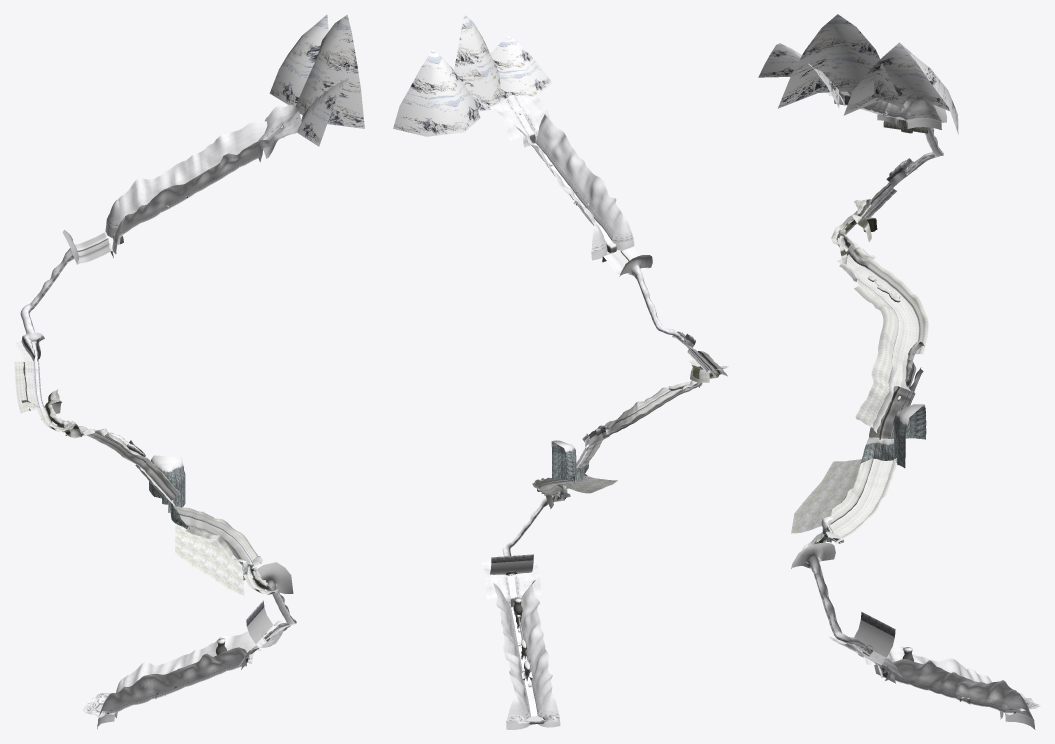
Rendered from Ice Cap 3.obj.
3 views of the same model, side by side, from view 1: azimuth 30°, elevation 25°; view 2: azimuth 150°, elevation 25°; view 3: azimuth 270°, elevation 25° (orthographic). The views are drawn at different scales.
Visible parts, largest first — view 1: object_00878628, object_008943B4, object_008BB1C4, object_008A3E48, object_00878350, object_00877720, object_008B067C, object_00939394, object_00878900, object_0091661C, object_008C9F7C, object_008D569C (+4 smaller); view 2: object_00878350, object_008A3E48, object_00878628, object_00878900, object_008BB1C4, object_008D569C, object_008B067C, object_009391C0, object_008C9F7C, object_0087B8EC, object_009201EC, object_009390F0 (+1 smaller); view 3: object_00878628, object_00878350, object_008B067C, object_009201EC, object_00877720, object_00939394, object_008C9F7C, object_0087B8EC, object_00878900, object_008DC57C, object_008BB1C4, object_00939360 (+11 smaller).
Part boxes in pixels (box(x1,y1,x2,y2)): object_00878628: box(295, 14, 364, 128); object_008943B4: box(118, 121, 267, 221); object_008BB1C4: box(110, 647, 249, 712); object_008A3E48: box(122, 139, 272, 234); object_00878350: box(269, 14, 328, 106); object_00877720: box(174, 524, 244, 596); object_008B067C: box(121, 631, 261, 688); object_00939394: box(170, 506, 261, 567); object_00878900: box(297, 78, 349, 146); object_0091661C: box(14, 361, 43, 413); object_008C9F7C: box(149, 455, 185, 512); object_008D569C: box(259, 104, 301, 158); object_00878350: box(393, 50, 480, 136); object_008A3E48: box(536, 114, 622, 240); object_00878628: box(454, 14, 500, 111); object_00878900: box(490, 36, 552, 101); object_008BB1C4: box(520, 580, 552, 715); object_008D569C: box(490, 95, 550, 140); object_008B067C: box(493, 583, 530, 715); object_009391C0: box(482, 557, 541, 599); object_008C9F7C: box(551, 440, 576, 480); object_0087B8EC: box(490, 554, 533, 574); object_009201EC: box(602, 389, 682, 435); object_009390F0: box(510, 596, 537, 716); object_00878628: box(778, 14, 904, 108); object_00878350: box(843, 42, 958, 134); object_008B067C: box(883, 659, 1016, 712); object_009201EC: box(858, 260, 928, 354); object_00877720: box(791, 459, 861, 533); object_00939394: box(830, 458, 896, 543); object_008C9F7C: box(893, 404, 926, 467); object_0087B8EC: box(848, 612, 895, 665); object_00878900: box(758, 43, 839, 108); object_008DC57C: box(855, 373, 893, 432); object_008BB1C4: box(864, 645, 990, 683); object_00939360: box(869, 386, 915, 439).
Size of the model in its own units: 13749 by 27794 by 9010.
